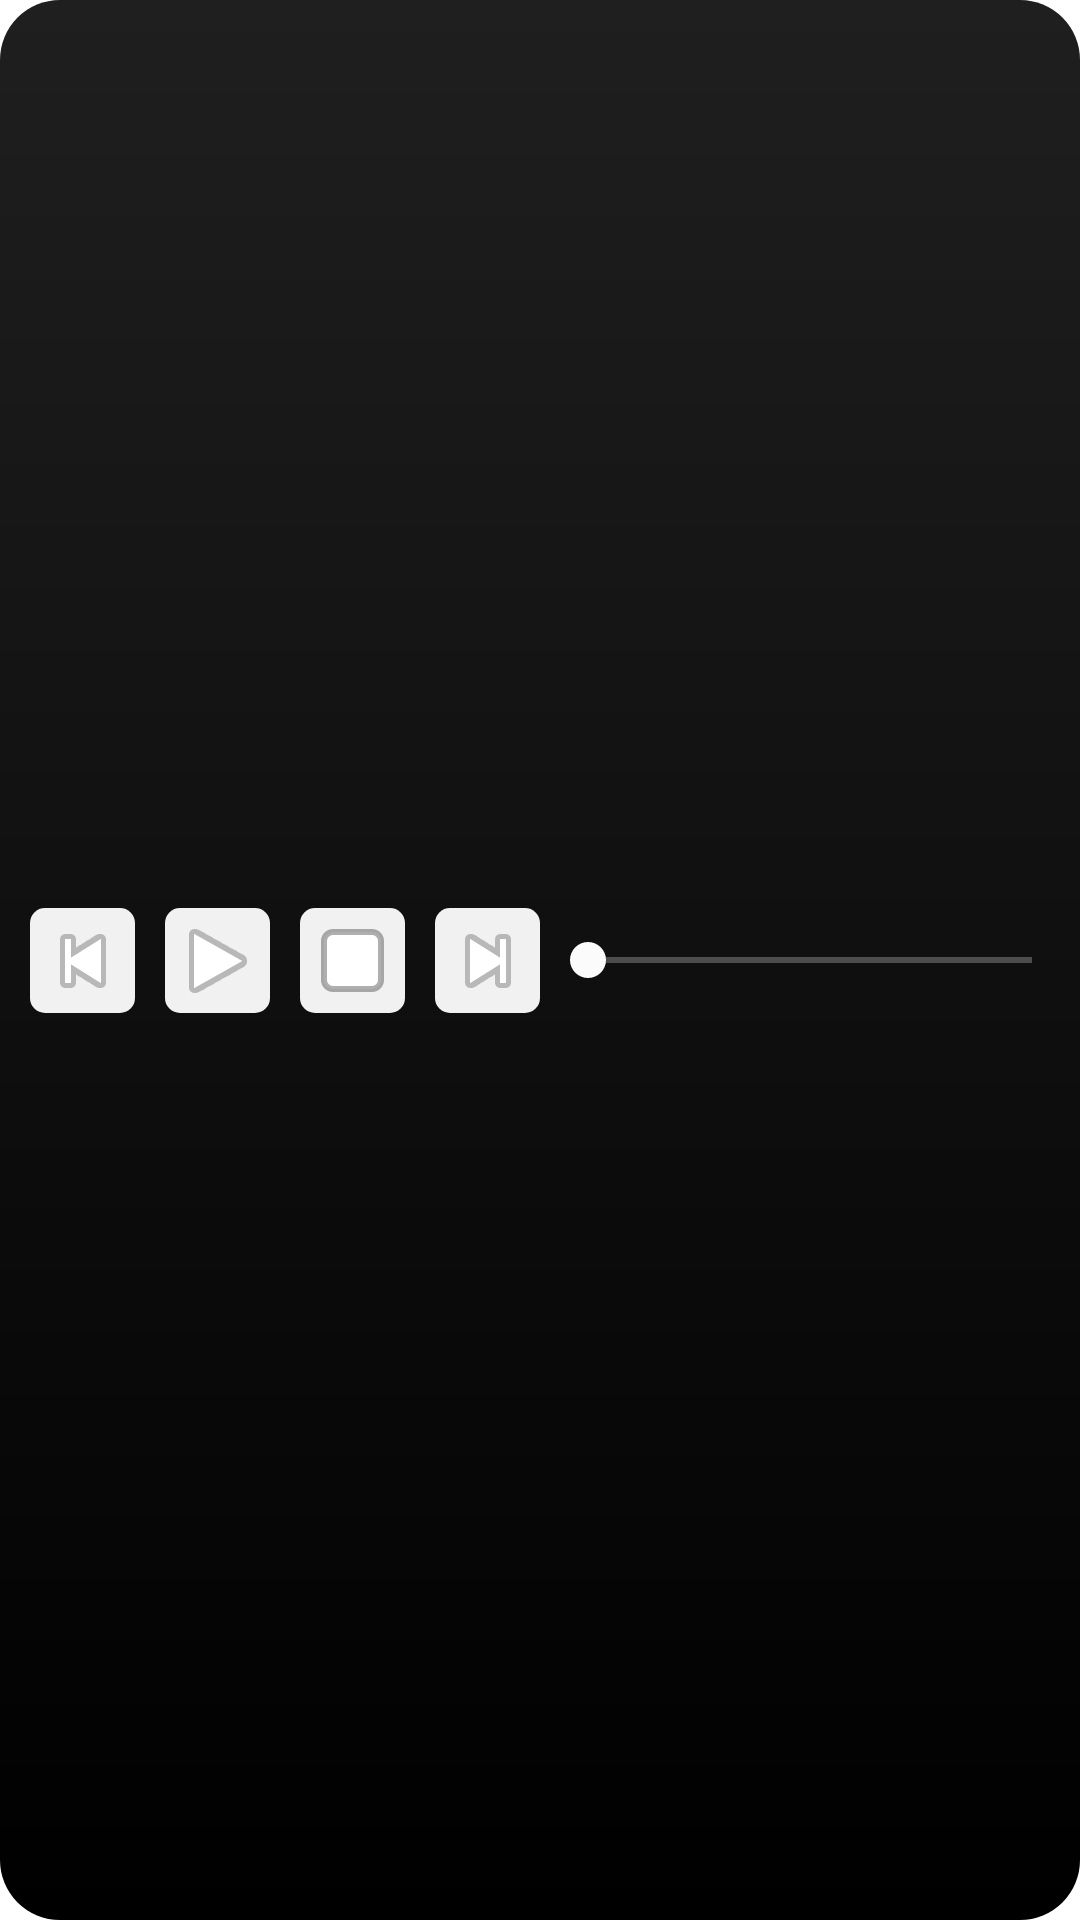

Icons on this 1080px x 1920px Android screen, each with the point to tap as point (x, y):
next: point (487, 960)
play: point (217, 960)
previous: point (82, 960)
stop: point (352, 960)
